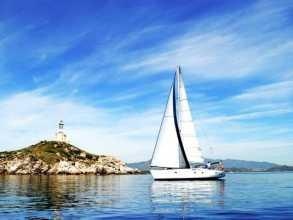fanchuan: (142, 65, 226, 179)
